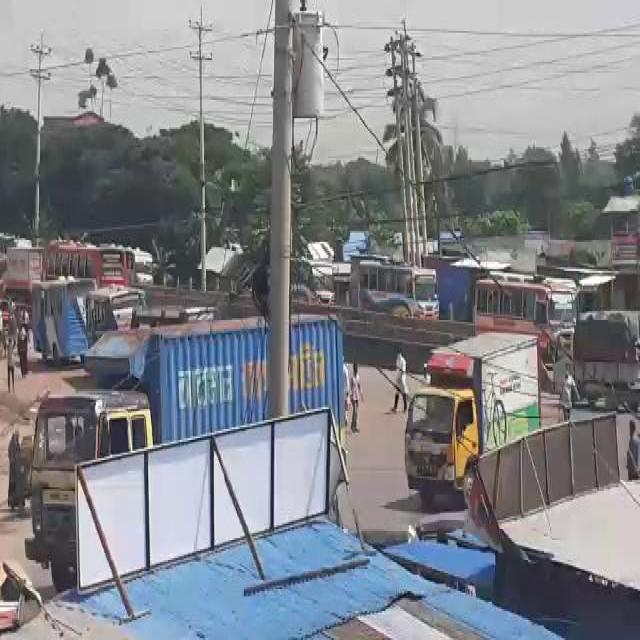11: (405, 332, 537, 497), (552, 311, 638, 409)
18: (21, 310, 346, 585)
Truck: (474, 278, 574, 351), (352, 256, 434, 322), (26, 269, 84, 360), (48, 232, 118, 284), (88, 279, 146, 328)
